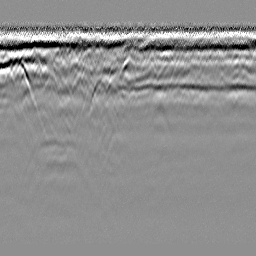cavity: (120, 55, 137, 77)
